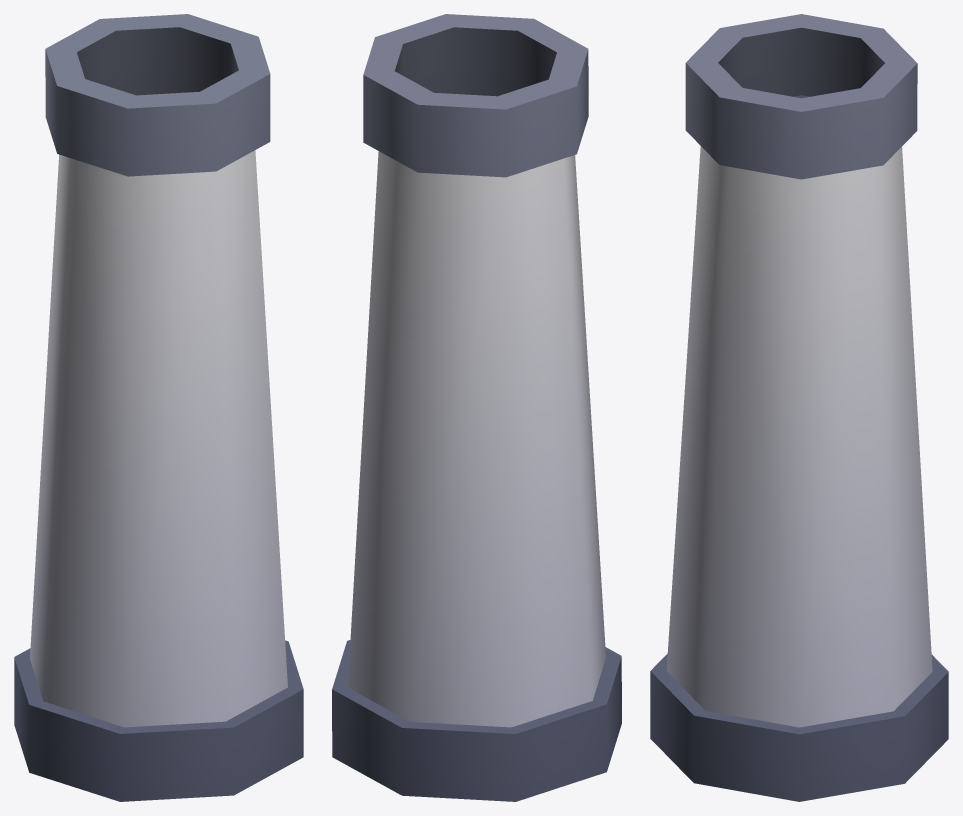
File: chimney-small_lev1.glb
3 views of the same model, side by side, from view 1: azimuth 30°, elevation 25°; view 2: azimuth 150°, elevation 25°; view 3: azimuth 270°, elevation 25° (orthographic).
Visible parts, largest first — view 1: chimney-small_lev1; view 2: chimney-small_lev1; view 3: chimney-small_lev1.
Boxes of the visible parts, x1,y1,x2,y2 form: chimney-small_lev1: (14, 14, 303, 801); chimney-small_lev1: (332, 14, 621, 801); chimney-small_lev1: (650, 14, 948, 801).
Size of the model in its own units: 0.3 by 0.7508 by 0.3002.
Materials: 1 (1 with a texture image).
